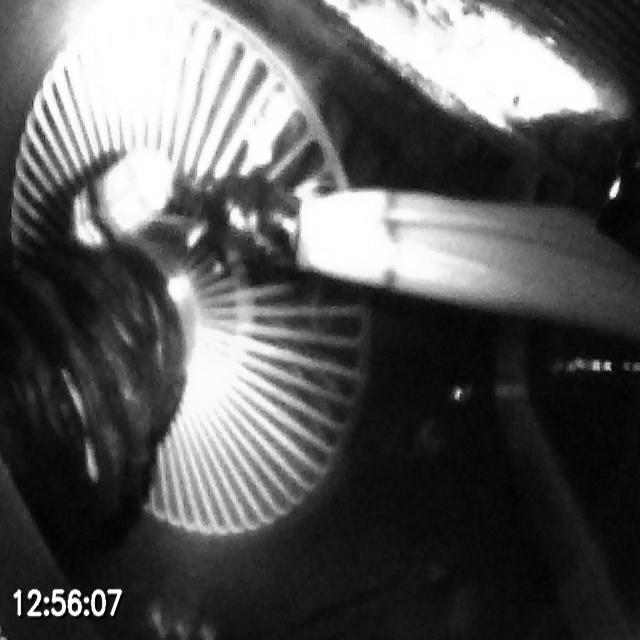head: (71, 149, 175, 251)
